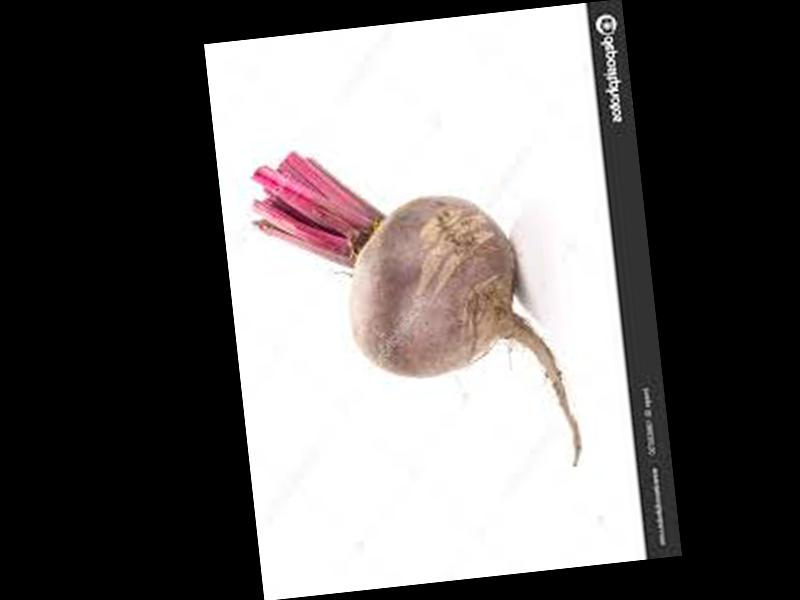Beet: (247, 127, 582, 498)
